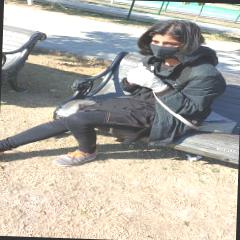gloved: (128, 70, 167, 90)
